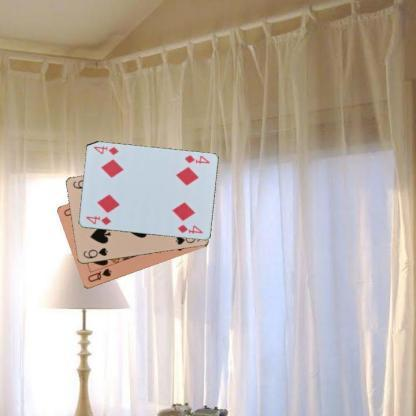4d: (83, 213, 112, 227), (182, 153, 211, 165)
6s: (80, 245, 110, 260)
Qs: (85, 266, 113, 284)
